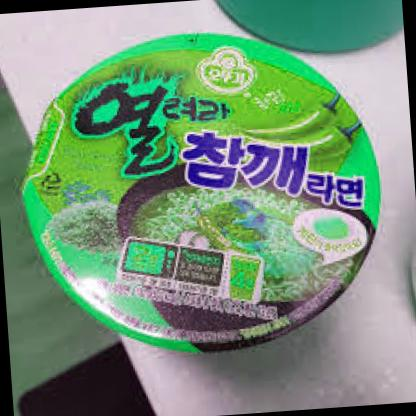Ramen: (17, 19, 396, 366)
